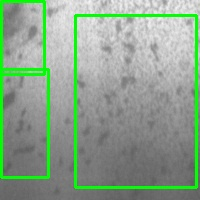pitted_surface: (75, 15, 196, 187), (1, 69, 48, 177), (1, 1, 44, 74)
